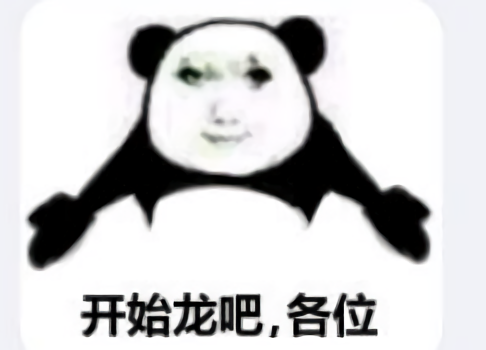dragon: (171, 53, 282, 149)
